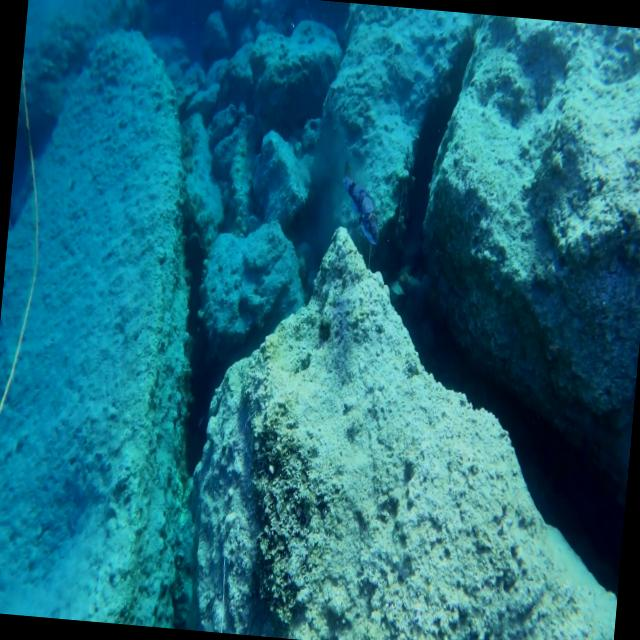Balon Baligi: (336, 160, 384, 244)
